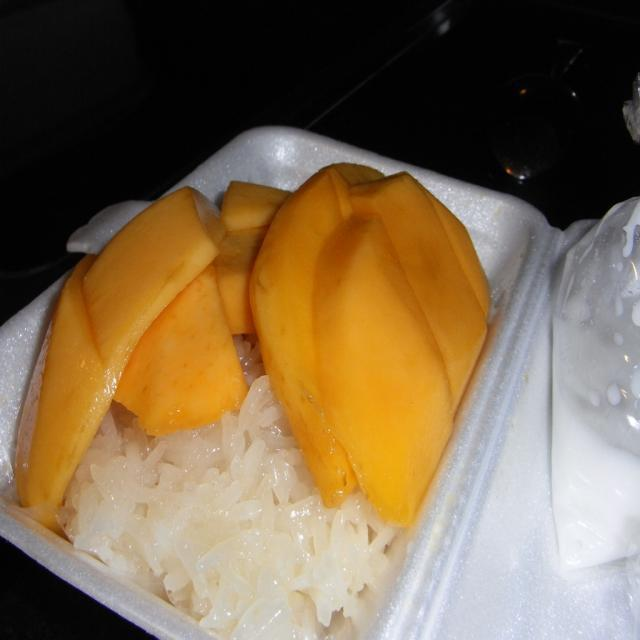Mango: (15, 163, 493, 534), (313, 213, 449, 529)
